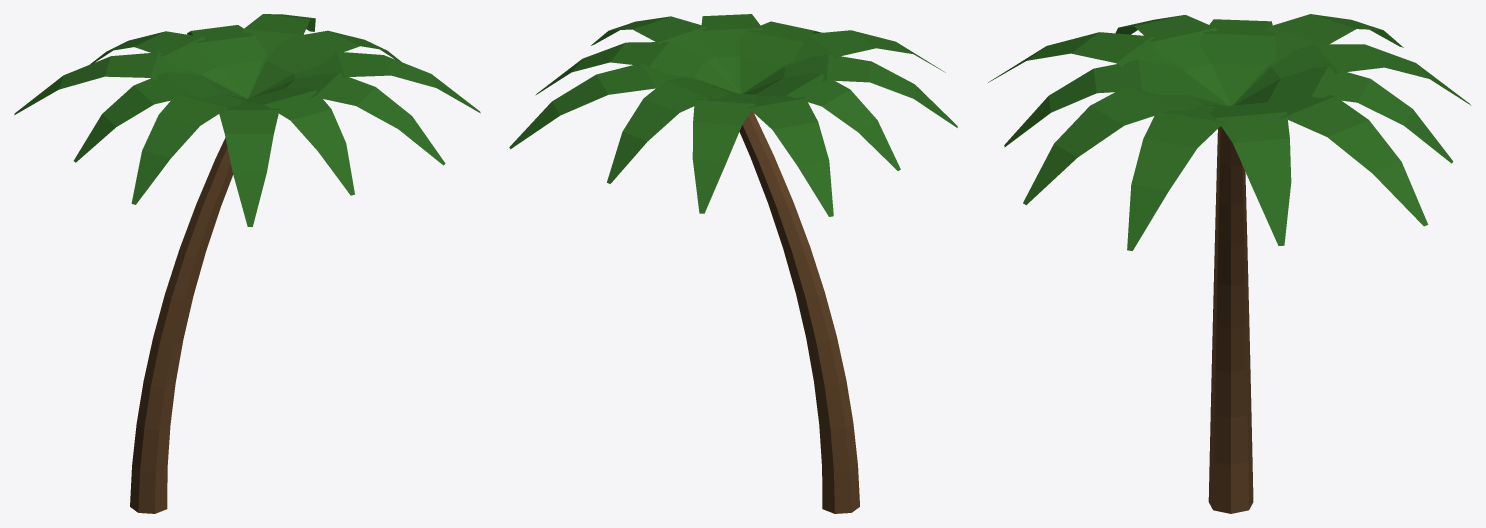
Rendered from SM_PalmTree.fbx.
The picture shows the model from 3 angles, left to right: view 1: azimuth 30°, elevation 25°; view 2: azimuth 150°, elevation 25°; view 3: azimuth 270°, elevation 25°; orthographic projection. The views are drawn at different scales.
Visible parts, largest first — view 1: SM_PalmTree; view 2: SM_PalmTree; view 3: SM_PalmTree.
Part boxes in pixels (x1=…): SM_PalmTree: x1=14, y1=14, x2=480, y2=513; SM_PalmTree: x1=509, y1=14, x2=957, y2=513; SM_PalmTree: x1=988, y1=14, x2=1471, y2=513.
Bounding box in the file's own units: 807 × 803 × 892.
